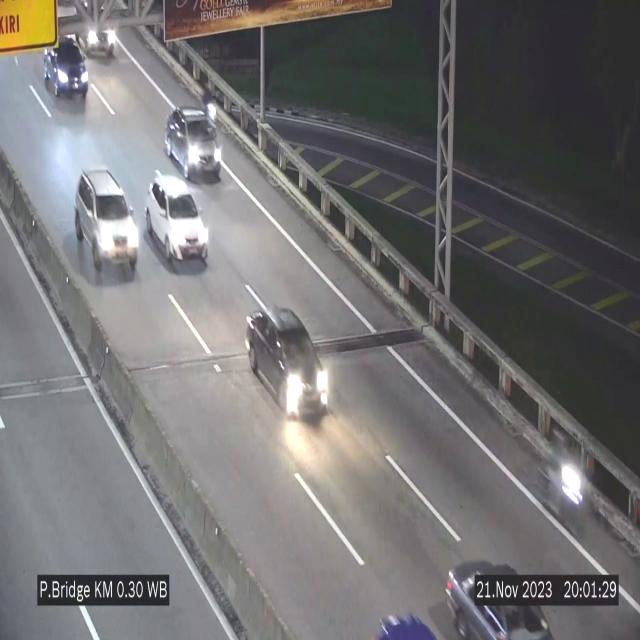Car: (440, 547, 557, 640), (244, 305, 328, 427), (75, 168, 139, 278), (146, 176, 208, 270), (161, 106, 221, 180), (43, 36, 91, 105), (72, 9, 120, 55)
Motorcycle: (546, 446, 586, 534)
